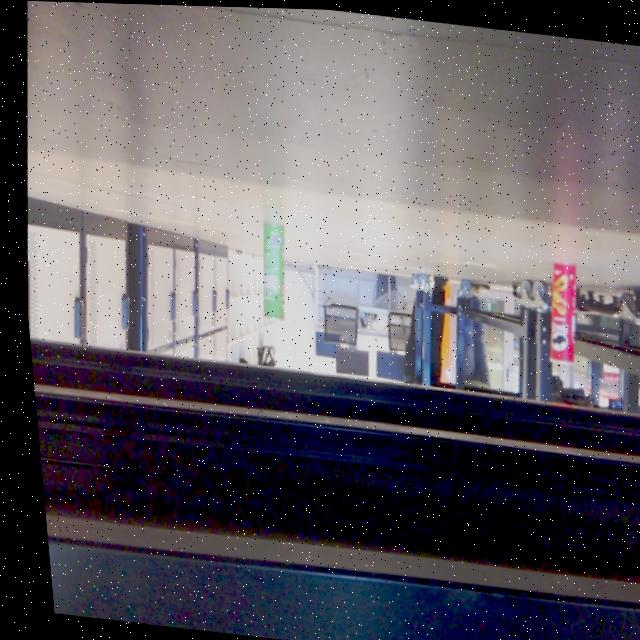greenpringles: (239, 208, 298, 330)
redpringles: (522, 251, 588, 374)
